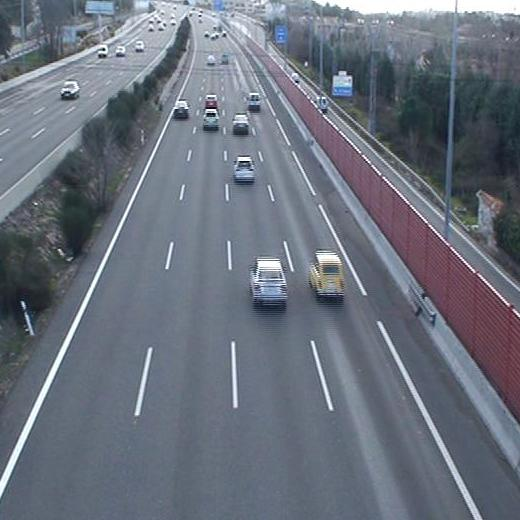car: (246, 255, 289, 308), (308, 250, 347, 301), (231, 156, 256, 182), (200, 108, 219, 129), (233, 113, 250, 135), (171, 100, 190, 119), (205, 94, 218, 111)
van: (247, 92, 262, 111)
